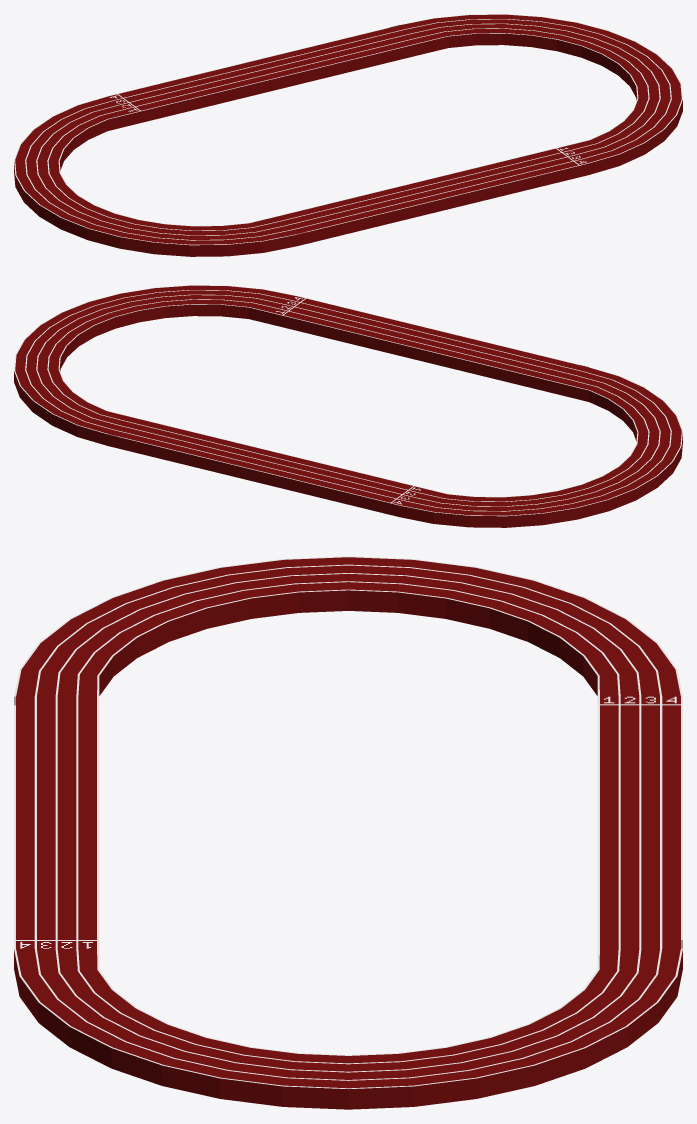
File: Track7.obj
3 views of the same model, one above another, from view 1: azimuth 30°, elevation 25°; view 2: azimuth 150°, elevation 25°; view 3: azimuth 270°, elevation 25° (orthographic). The views are drawn at different scales.
Parts seen in each view (by area): view 1: Cube_Cube_Material.002, Cube_Cube_Material.001; view 2: Cube_Cube_Material.002, Cube_Cube_Material.001; view 3: Cube_Cube_Material.002, Cube_Cube_Material.001.
Part boxes in pixels (<box>): Cube_Cube_Material.002: <box>14,14,682,256</box>; Cube_Cube_Material.001: <box>14,14,682,245</box>; Cube_Cube_Material.002: <box>14,285,682,527</box>; Cube_Cube_Material.001: <box>14,285,682,516</box>; Cube_Cube_Material.002: <box>14,557,682,1109</box>; Cube_Cube_Material.001: <box>14,556,682,1088</box>.
Size of the model in its own units: 123 by 2.2 by 65.04.
